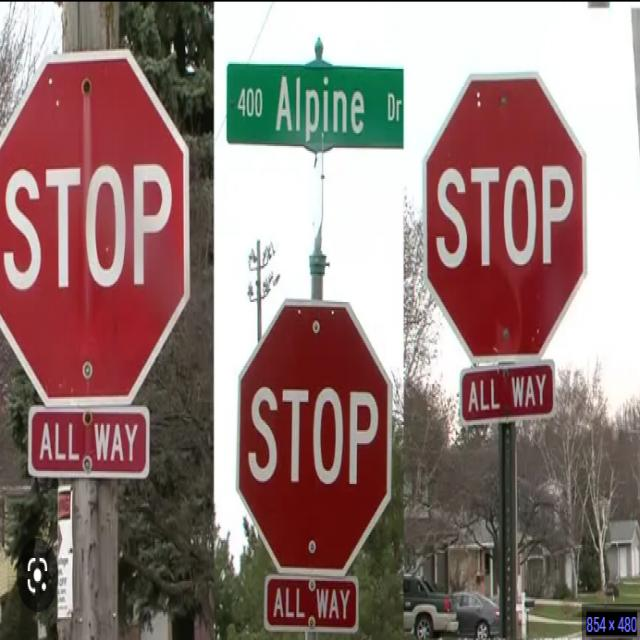stop-sign: (0, 59, 178, 397), (432, 78, 632, 341), (228, 266, 398, 548)
